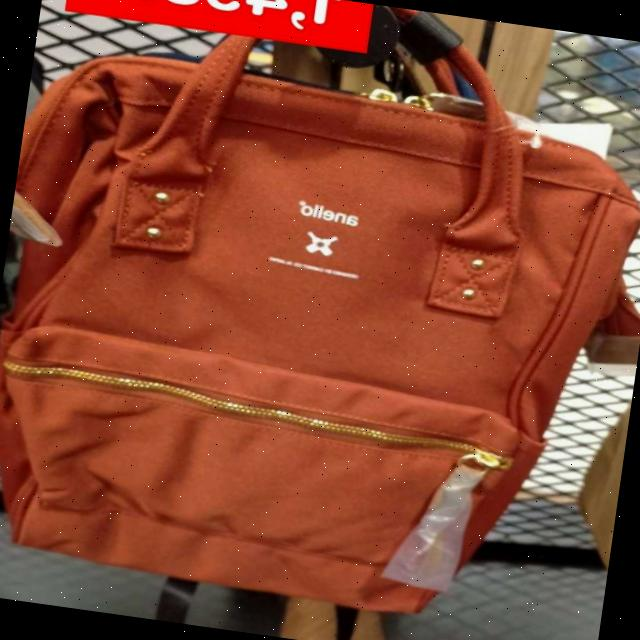Handbag: (0, 46, 640, 640)
